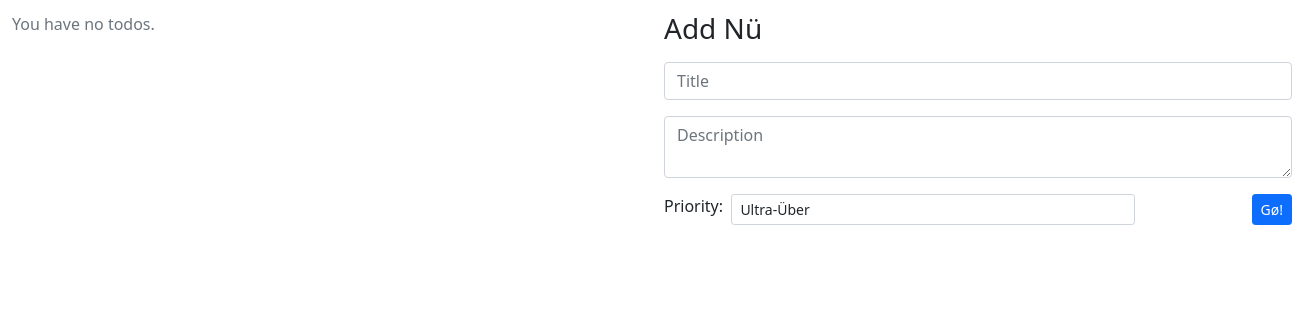
Test: Test that todo(verify w/ title) IS there, delete, and verify absent
In the field with id "newTodo-title": coordinates (978, 81) [664, 62, 1292, 100], type "test title"
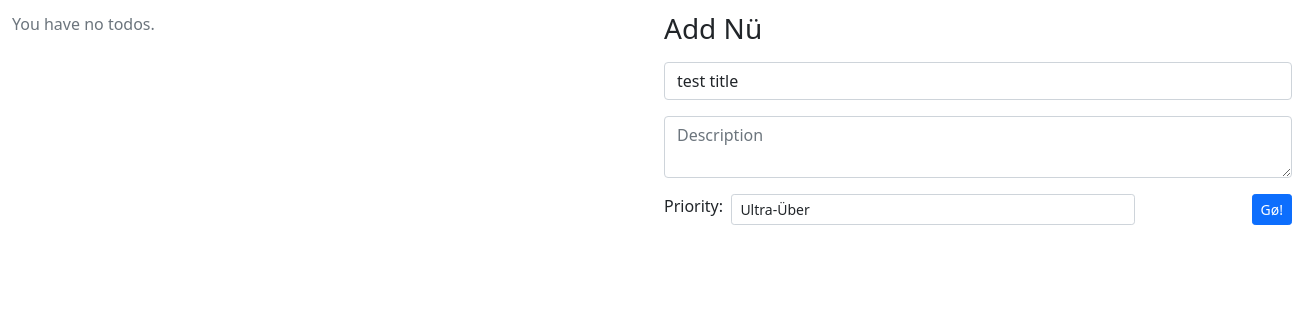
Submit the form from the button with class "NewTodoForm-addBtn", box [1252, 194, 1292, 225]
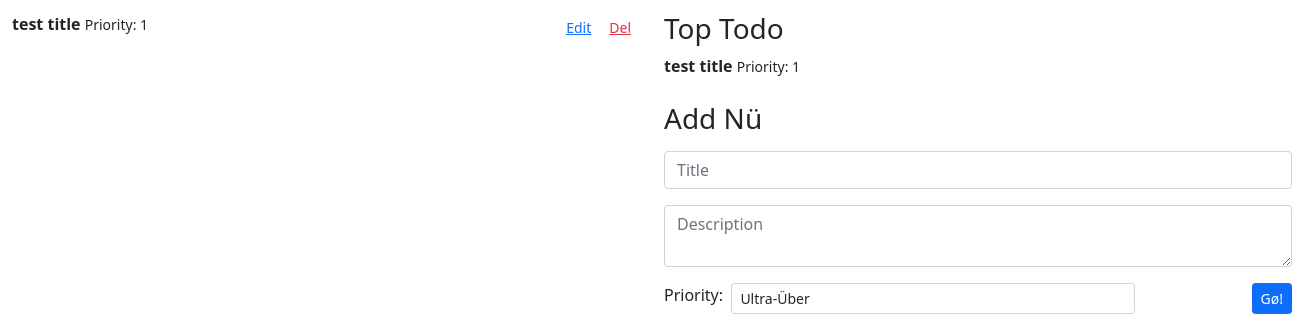
Expected: the text "You have no todos." is gone
Click the button with class "EditableTodo-delBtn": coordinates (620, 28) [600, 12, 640, 43]
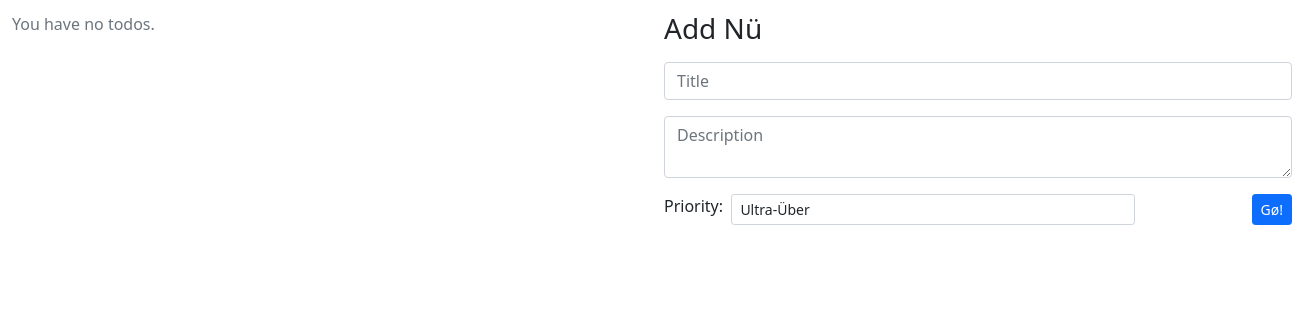
Expected: the text "You have no todos." is shown, [12, 13, 155, 35]
